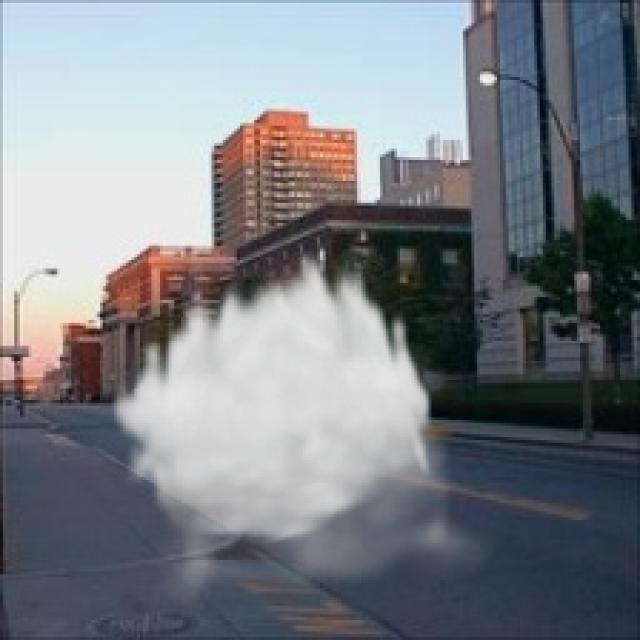smoke: (108, 246, 503, 614)
